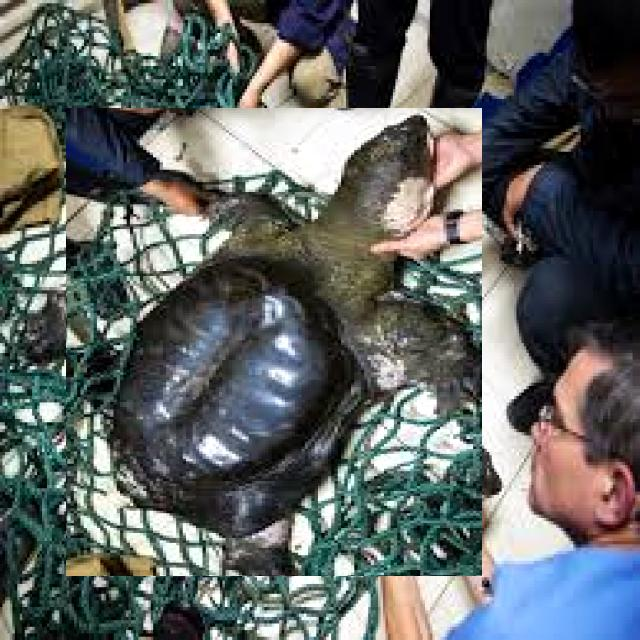Sea turtle: (53, 121, 496, 564)
